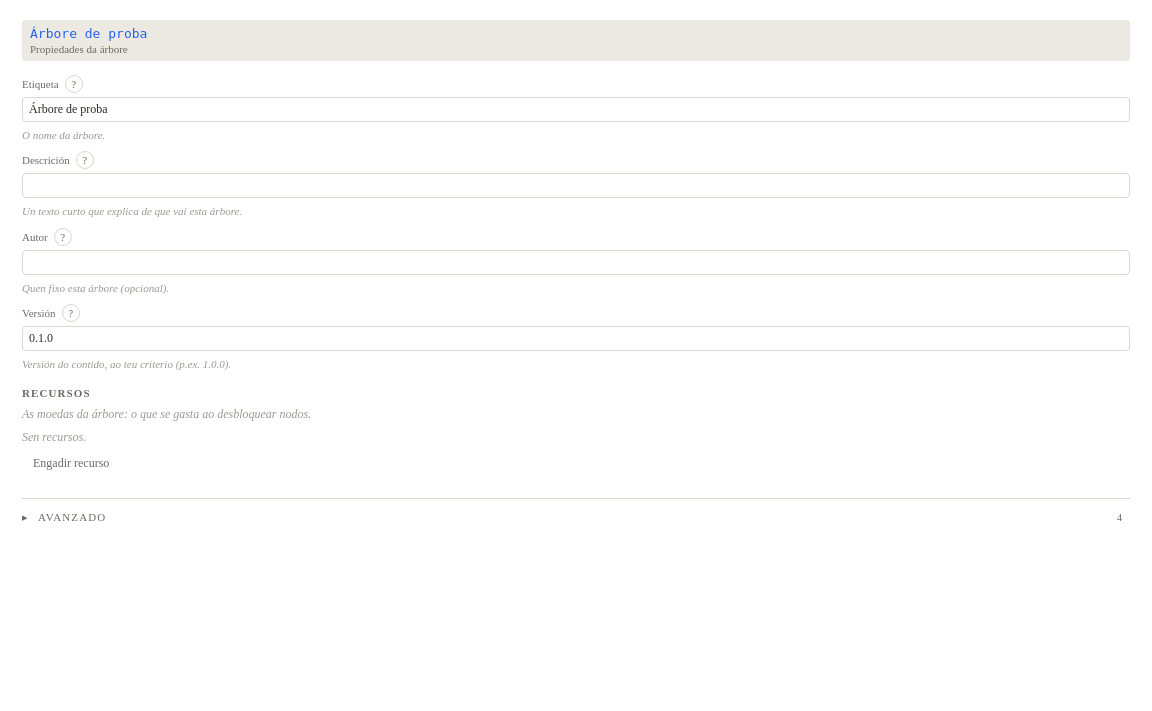
Test: ★ 7.12 — TreeInspector: identidade › ★ id e schemaVersion son readonly (input disabled, en Avanzado)
Avanzado empeza pregado — despregar.
Click the text "Avanzado" at (72, 517), box [38, 511, 106, 523]
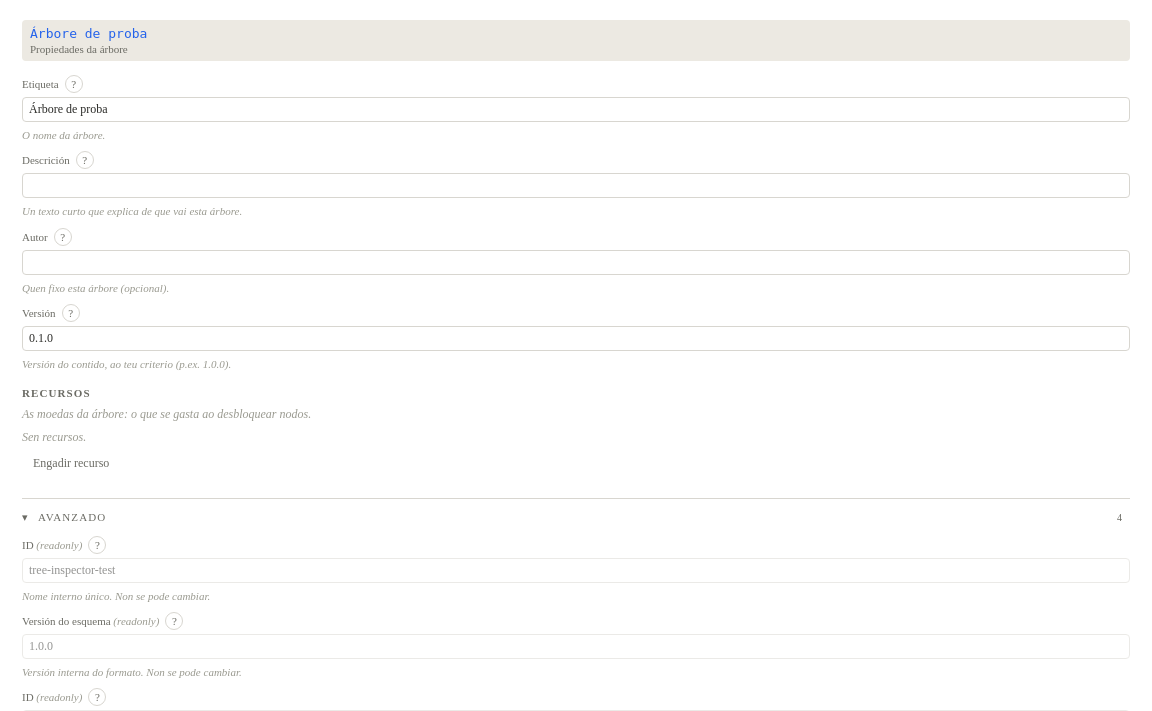
Expected: the field with id "tree-inspector-id" is disabled, [22, 558, 1130, 583]
Expected: the field with id "tree-inspector-id" holds "tree-inspector-test", [22, 558, 1130, 583]
